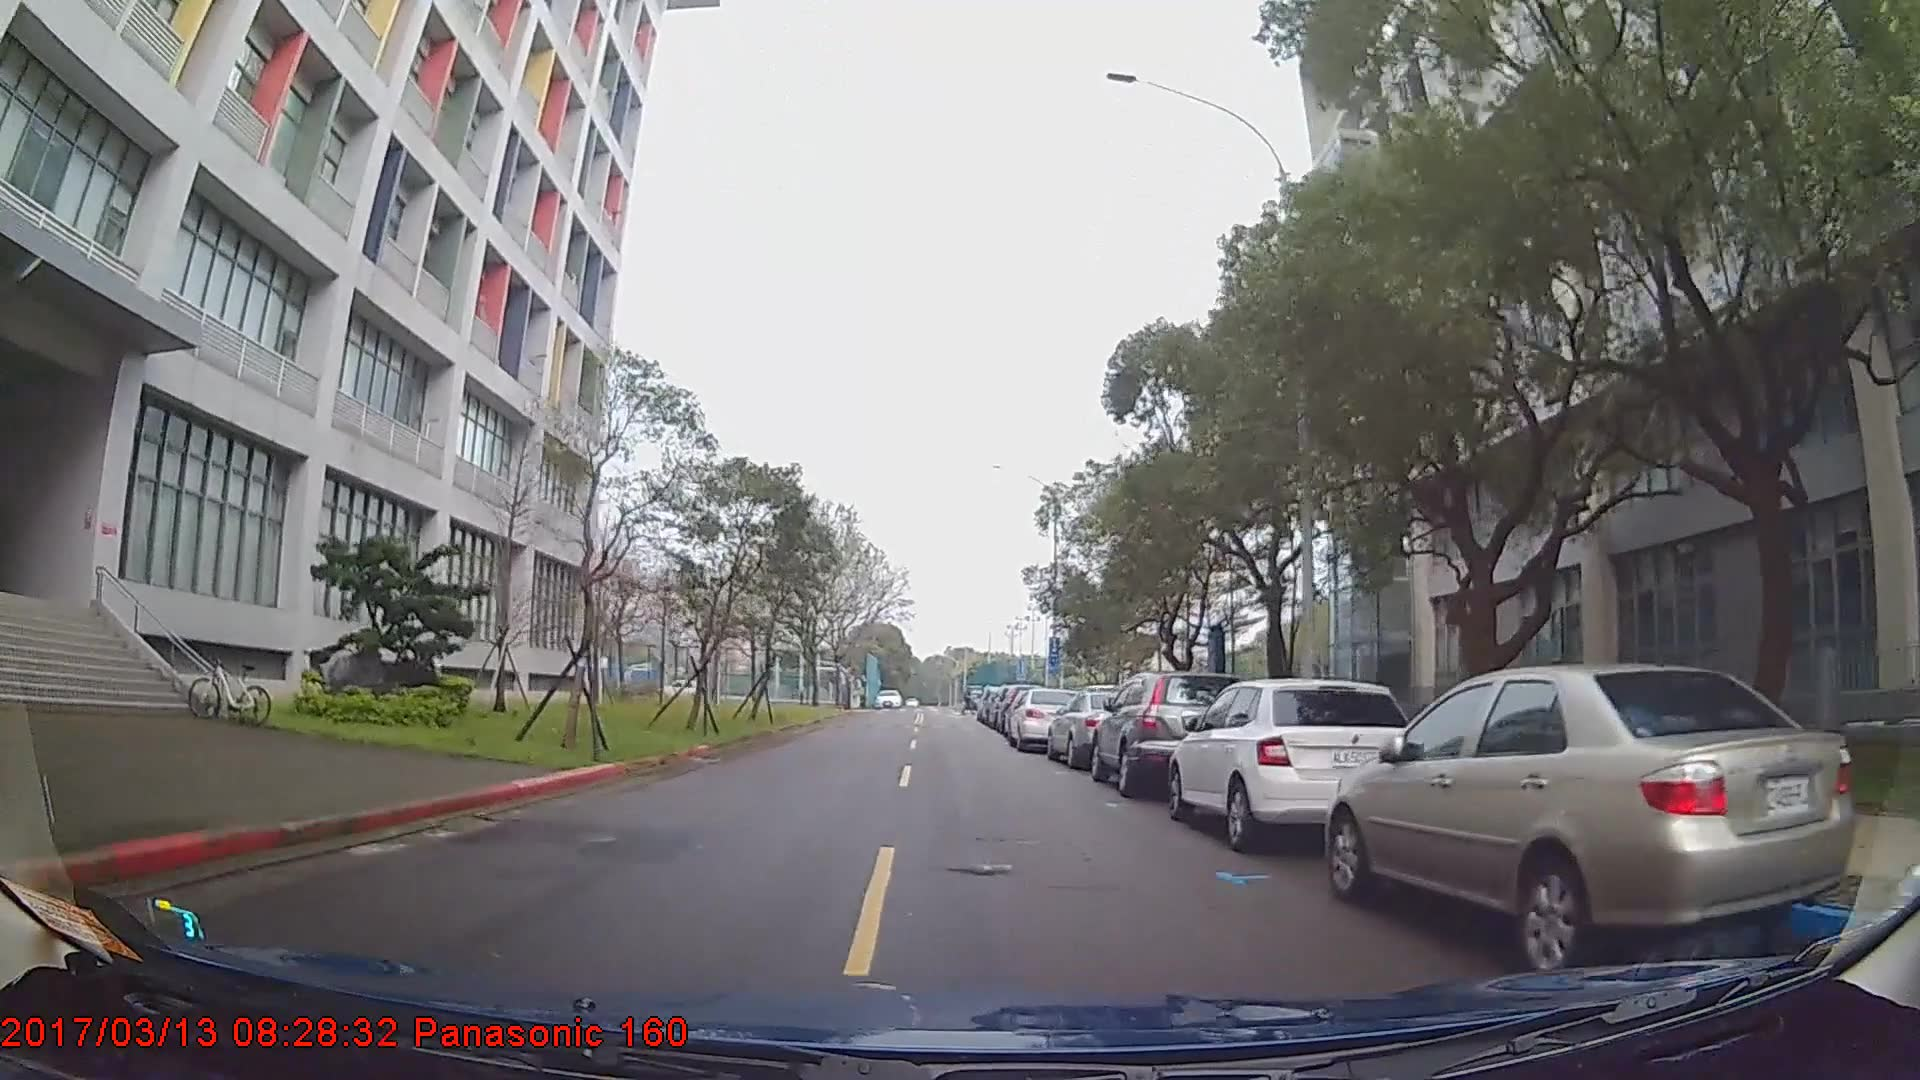vehicle: (1327, 662, 1857, 978), (1164, 676, 1414, 848), (1087, 669, 1251, 796), (1044, 686, 1145, 767), (1006, 684, 1083, 752)
